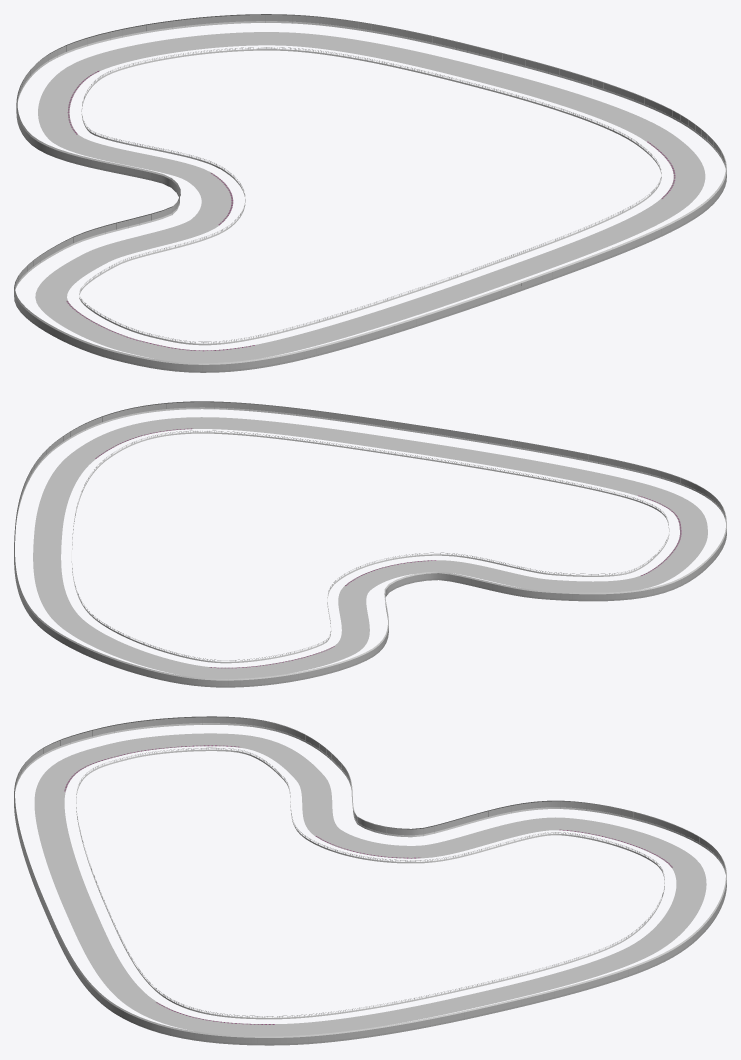
Rendered from Track_1.fbx.
3 renders of one model, top to bottom at view 1: azimuth 30°, elevation 25°; view 2: azimuth 150°, elevation 25°; view 3: azimuth 270°, elevation 25°, orthographic. The views are drawn at different scales.
Parts seen in each view (by area): view 1: Track_123, Side_Fence_Left, Fence_Right, Track_Rail_Right; view 2: Track_123, Side_Fence_Left, Fence_Right, Track_Rail_Right; view 3: Track_123, Side_Fence_Left, Fence_Right, Track_Rail_Right.
Part boxes in pixels (<box>): Track_123: <box>35,32,705,362</box>; Side_Fence_Left: <box>14,14,726,372</box>; Fence_Right: <box>79,47,661,345</box>; Track_Rail_Right: <box>66,70,675,351</box>; Track_123: <box>33,417,707,678</box>; Side_Fence_Left: <box>14,401,726,687</box>; Fence_Right: <box>71,430,669,663</box>; Track_Rail_Right: <box>95,428,681,668</box>; Track_123: <box>34,733,706,1036</box>; Side_Fence_Left: <box>14,716,726,1045</box>; Fence_Right: <box>76,747,664,1019</box>; Track_Rail_Right: <box>64,745,673,1024</box>.
Bounding box in the file's own units: 42875 × 547 × 40277.
